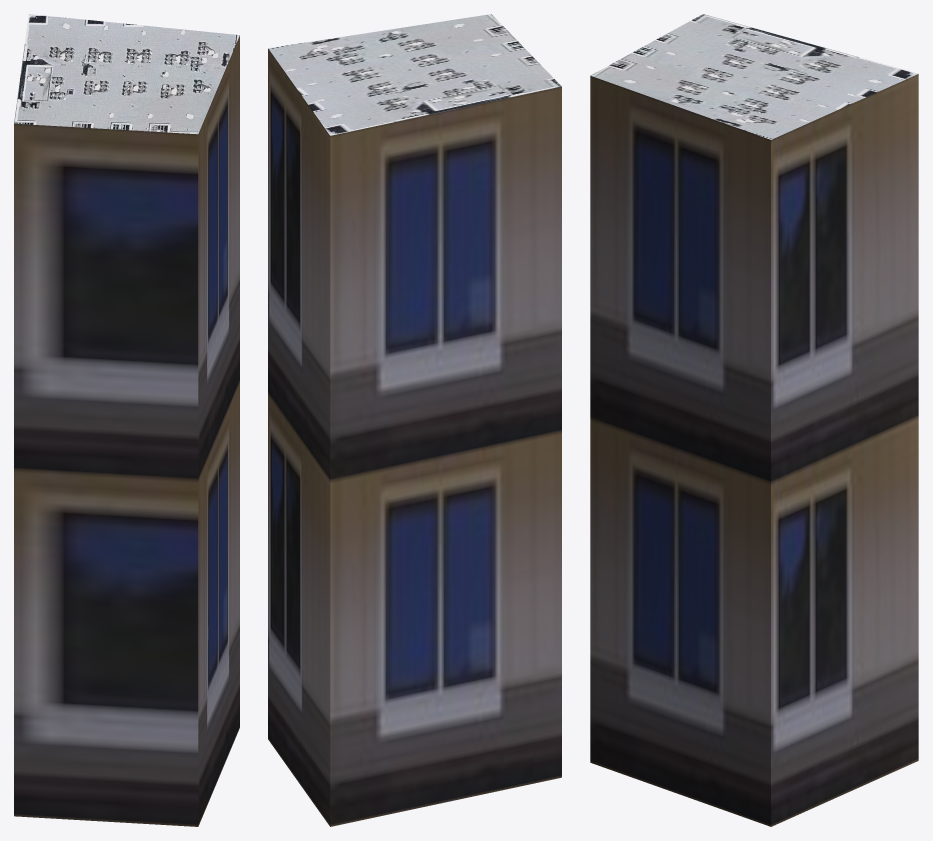
Rendered from ResTex__4341.fbx.
The picture shows the model from 3 angles, left to right: view 1: azimuth 30°, elevation 25°; view 2: azimuth 150°, elevation 25°; view 3: azimuth 270°, elevation 25°; orthographic projection.
Visible parts, largest first — view 1: CityEngineMaterial_5_m, CityEngineMaterial_8_m; view 2: CityEngineMaterial_5_m, CityEngineMaterial_8_m; view 3: CityEngineMaterial_5_m, CityEngineMaterial_8_m.
Part boxes in pixels (x1,y1,x2,y2): CityEngineMaterial_5_m: [14, 35, 239, 826]; CityEngineMaterial_8_m: [14, 14, 239, 134]; CityEngineMaterial_5_m: [268, 48, 561, 826]; CityEngineMaterial_8_m: [268, 14, 561, 135]; CityEngineMaterial_5_m: [590, 74, 918, 826]; CityEngineMaterial_8_m: [590, 14, 918, 139].
Bounding box in the file's own units: 2.36 × 6 × 2.6.
Materials: 2 (2 with a texture image).
